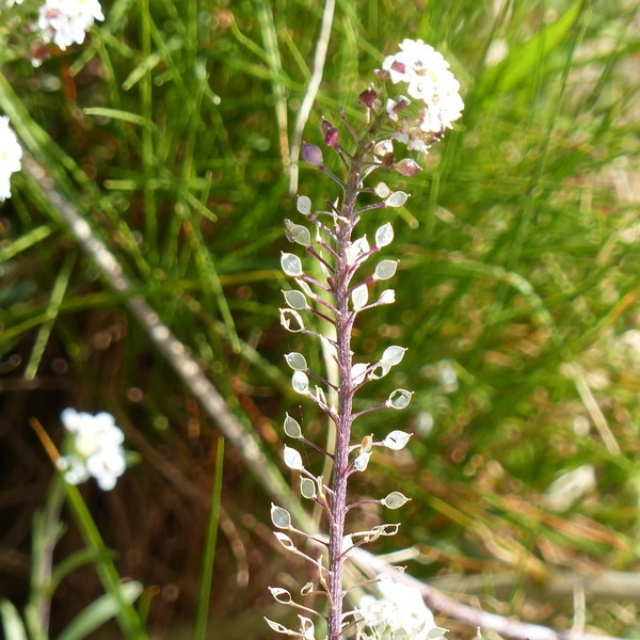obstacle: (221, 38, 546, 615)
